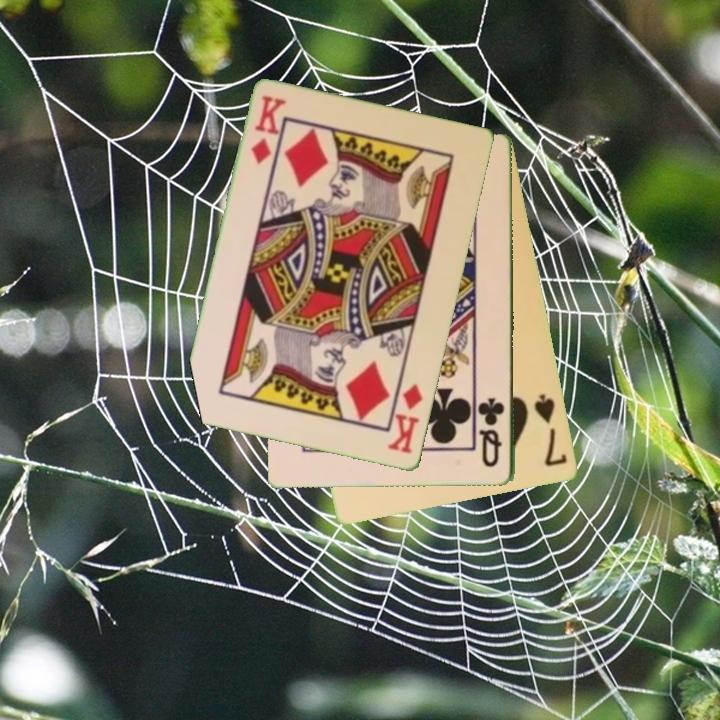7s: (531, 391, 571, 470)
Kd: (384, 380, 426, 457), (248, 92, 288, 168)
Qc: (476, 395, 507, 471)
